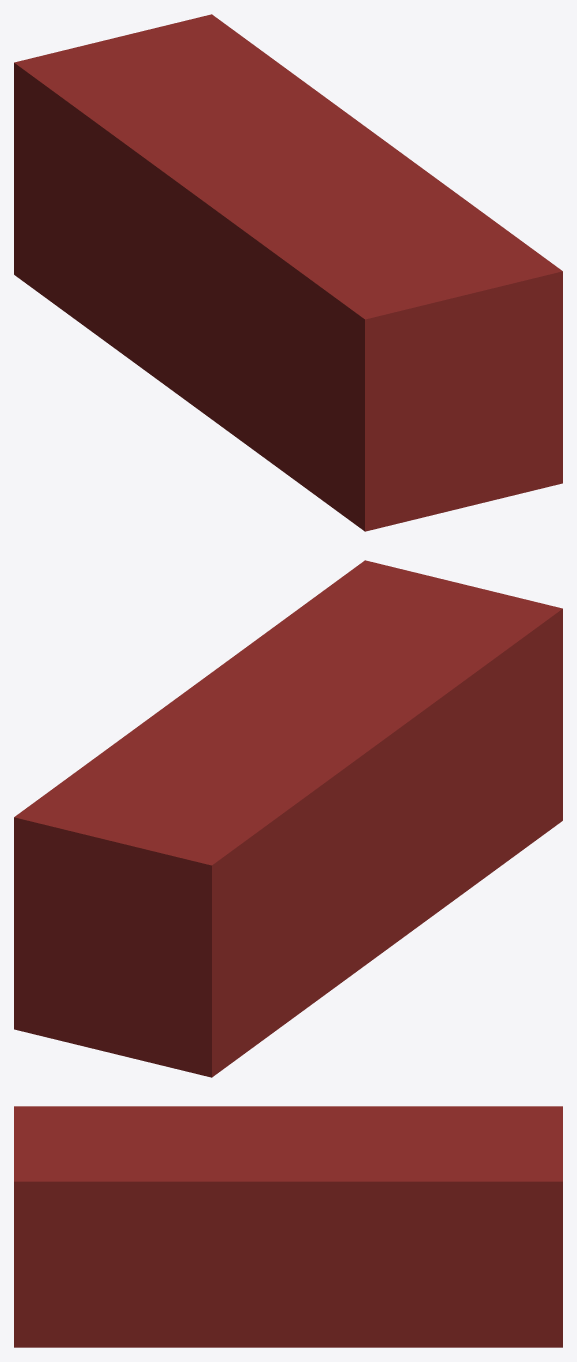
3 renders of one model, top to bottom at view 1: azimuth 30°, elevation 25°; view 2: azimuth 150°, elevation 25°; view 3: azimuth 270°, elevation 25°, orthographic. The views are drawn at different scales.
Parts seen in each view (by area): view 1: Remeshed_Object; view 2: Remeshed_Object; view 3: Remeshed_Object.
Boxes of the visible parts, left/top/right/bottom form: Remeshed_Object: left=14, top=14, right=562, bottom=531; Remeshed_Object: left=14, top=560, right=562, bottom=1077; Remeshed_Object: left=14, top=1106, right=562, bottom=1347.
Size of the model in its own units: 1.55 by 1.59 by 4.76.
